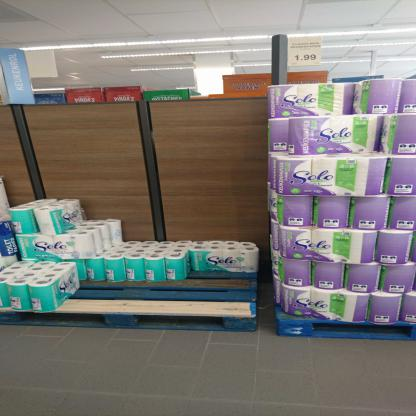prtg: (289, 38, 324, 68)
